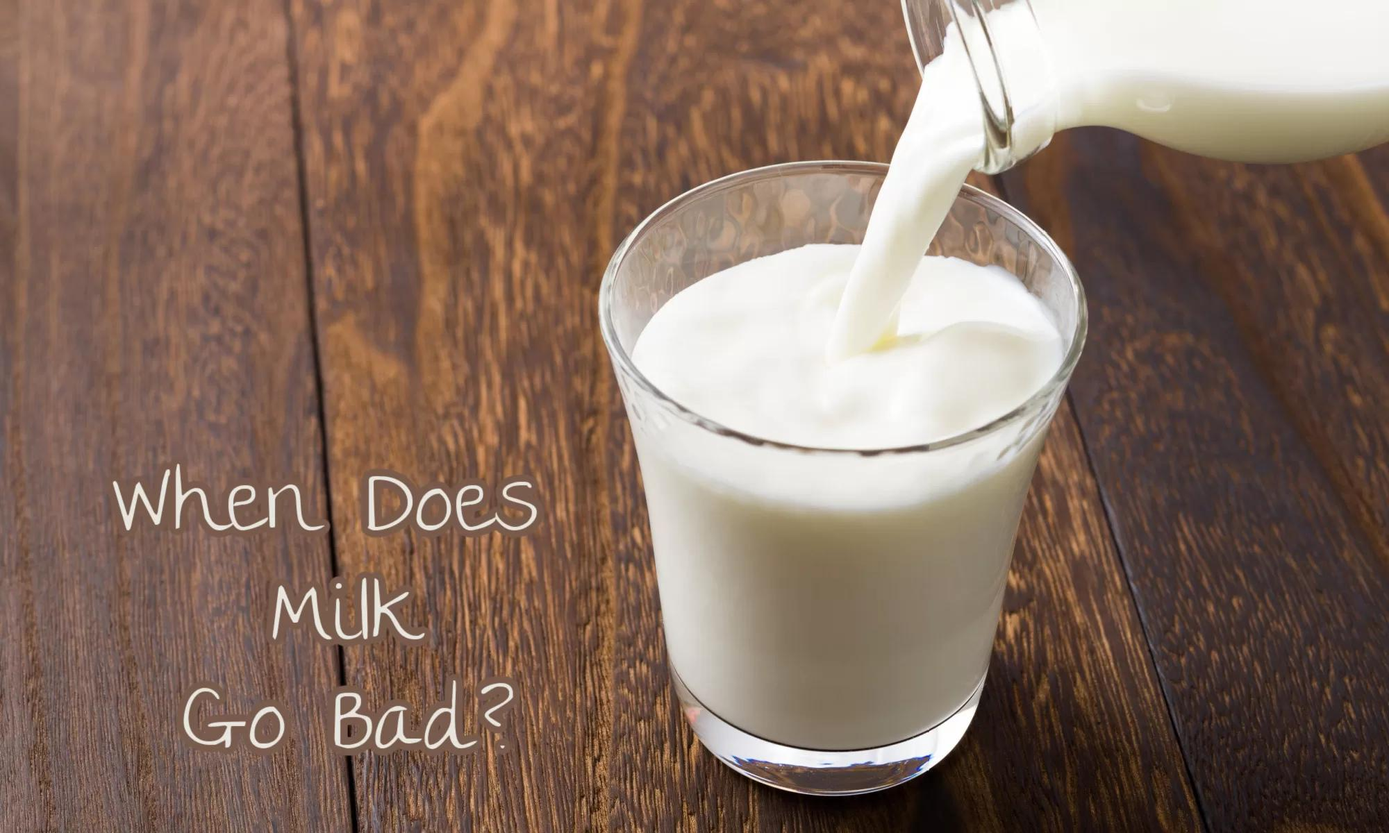produk_susu: (697, 195, 966, 750)
